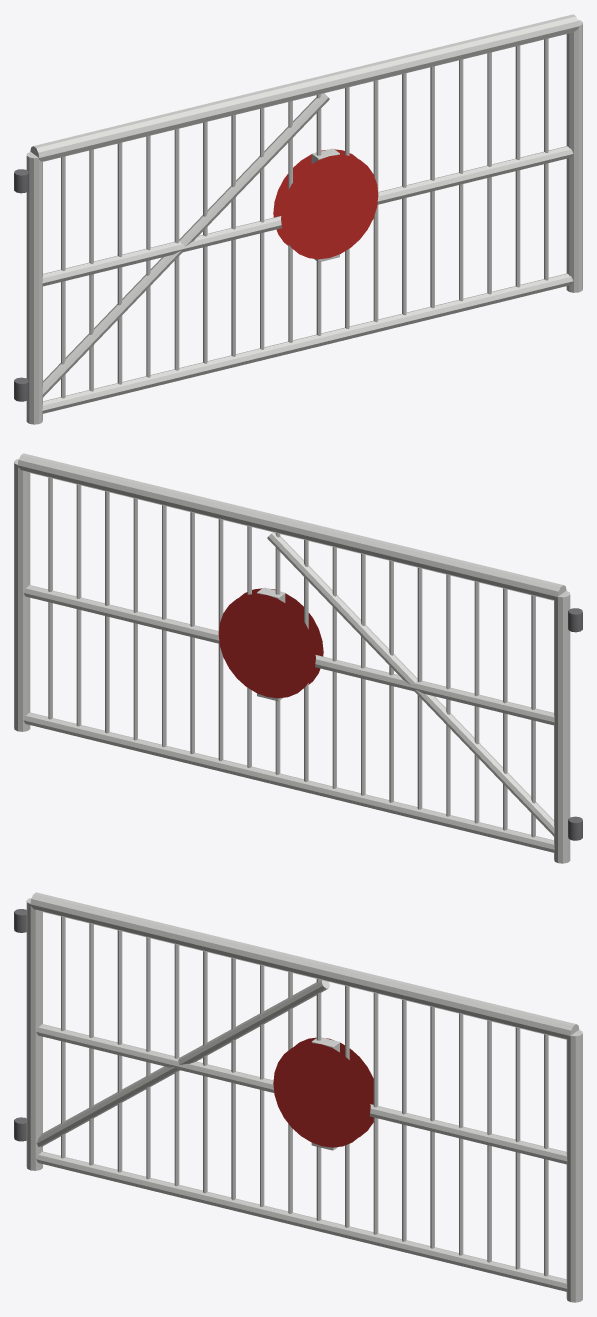
Rendered from lx_gate_25.glb.
3 renders of one model, top to bottom at view 1: azimuth 30°, elevation 25°; view 2: azimuth 150°, elevation 25°; view 3: azimuth 330°, elevation 25°, orthographic.
Parts seen in each view (by area): view 1: SM_lx_gate_25; view 2: SM_lx_gate_25; view 3: SM_lx_gate_25.
Part boxes in pixels (bbox=[...]): SM_lx_gate_25: bbox=[14, 14, 582, 424]; SM_lx_gate_25: bbox=[14, 453, 582, 863]; SM_lx_gate_25: bbox=[14, 892, 582, 1302].
Size of the model in its own units: 2.56 by 1.18 by 0.07.
